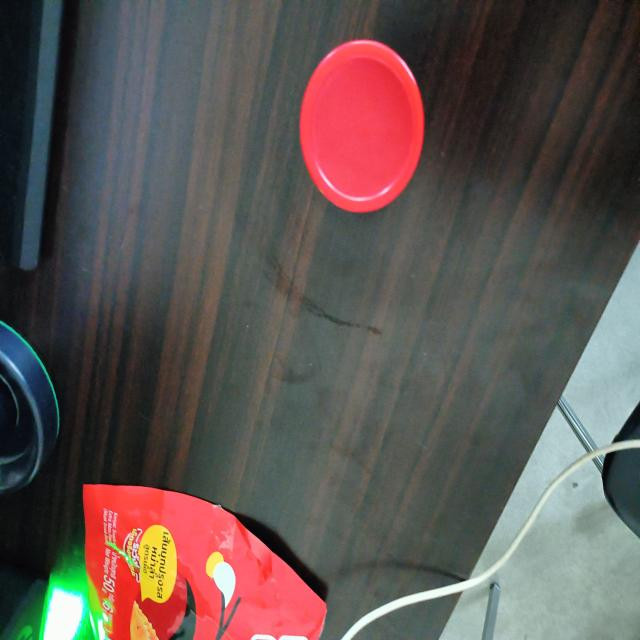chip: (296, 39, 418, 217), (480, 578, 502, 640)
